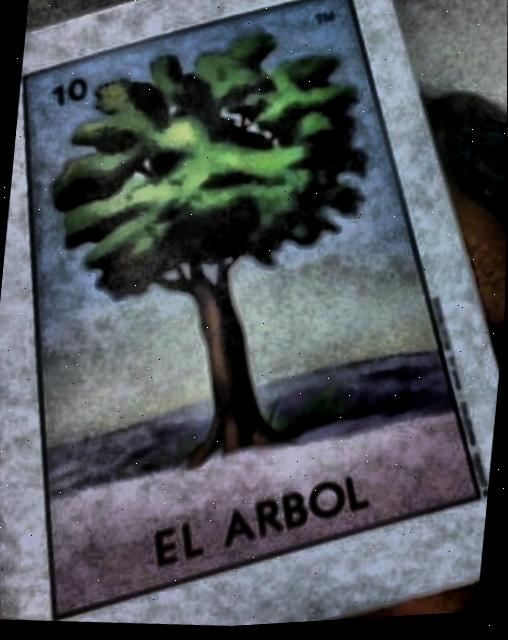El Arbol: (27, 0, 481, 610)
